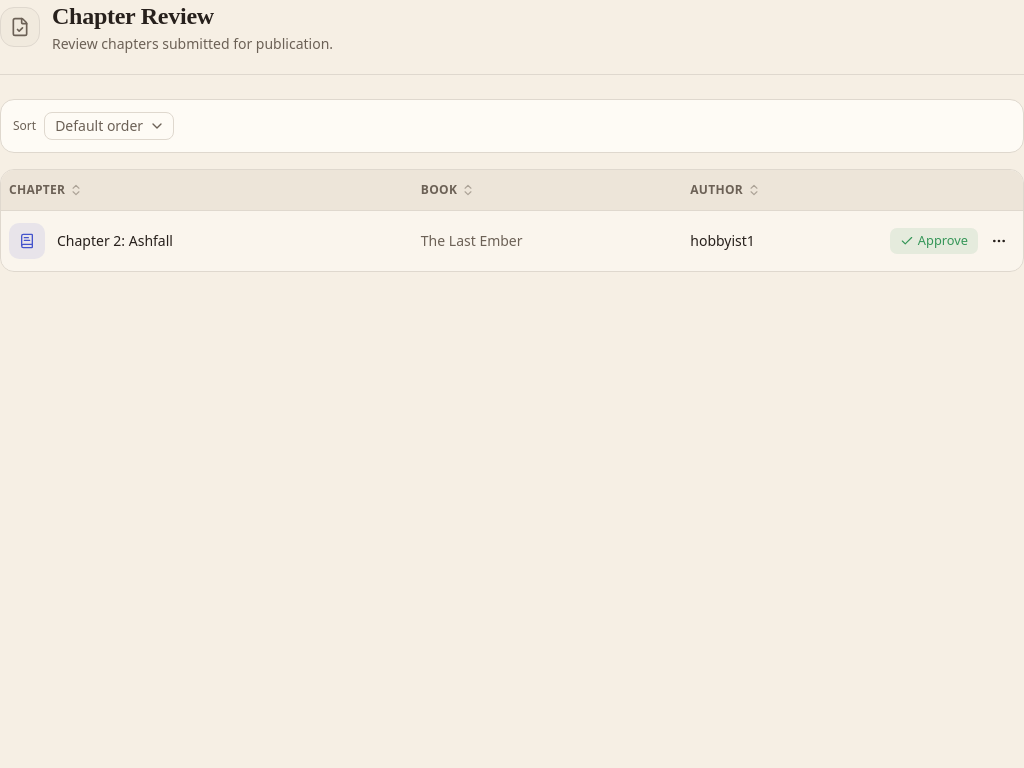
Scenario: ChaptersQueuePage › lazily loads chapter content for review via GET /chapters/{id}
The image size is (1024, 768).
Content is not fetched until the review dialog is opened from the row menu.
Click the button named "actions": click(999, 240) [983,224,1015,256]
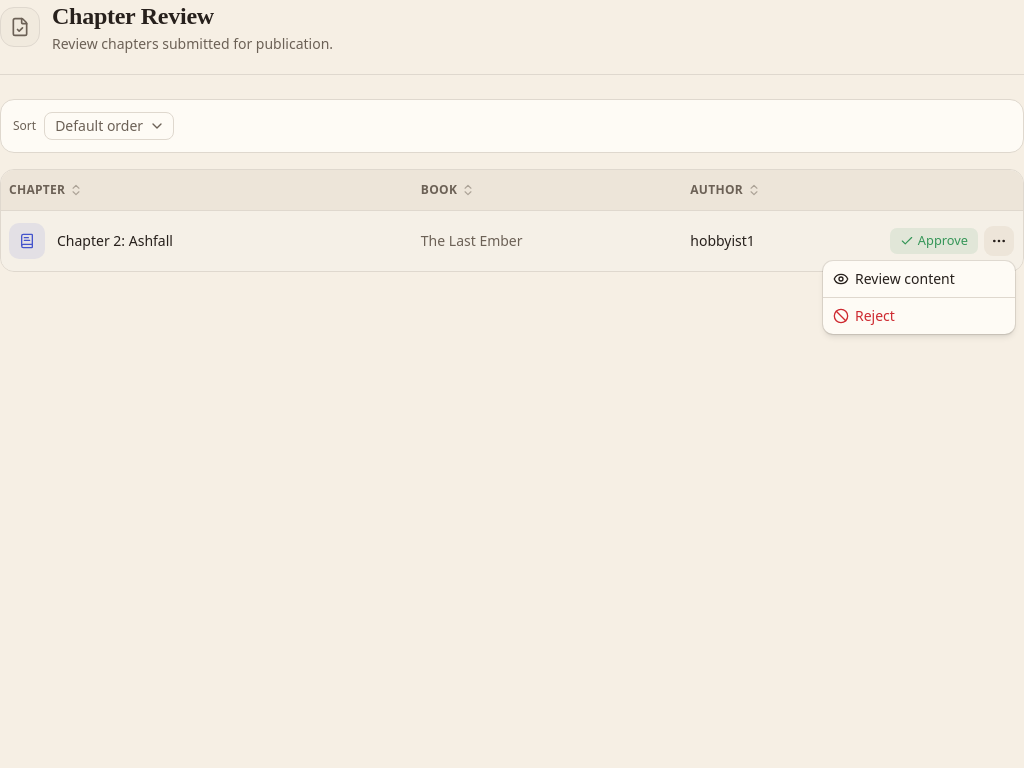
Click the menu item "Review content": click(894, 278) [833,269,955,288]
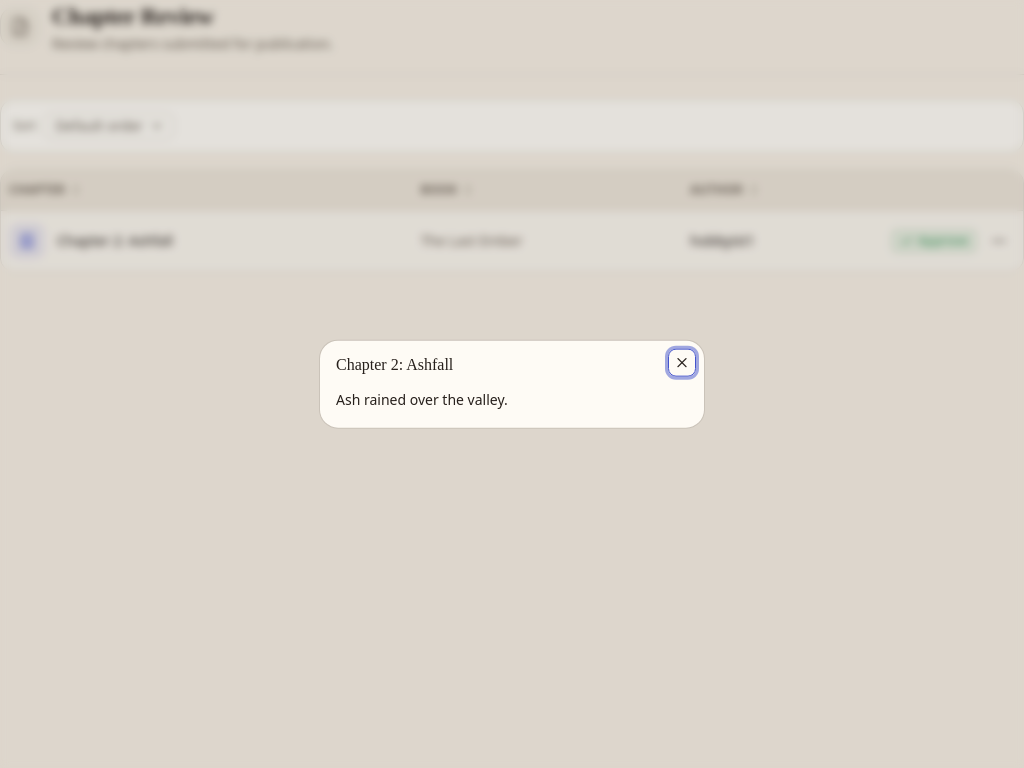
expect the text "Ash rained over the valley." is shown: met, box [336,390,508,409]
